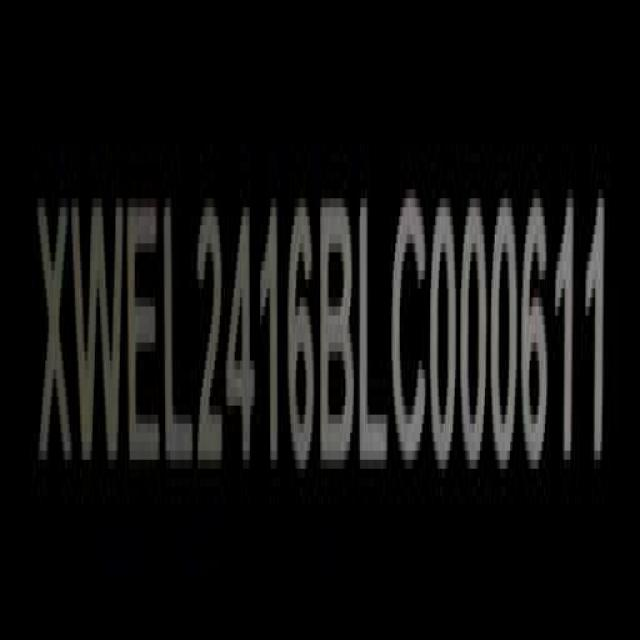0: (491, 196, 521, 475), (431, 194, 459, 475), (462, 192, 489, 473)
1: (586, 187, 610, 476), (260, 191, 282, 479), (557, 186, 577, 479)
2: (196, 196, 226, 482)
4: (225, 198, 255, 482)
6: (289, 196, 319, 478), (523, 190, 551, 476)
B: (321, 191, 355, 478)
C: (394, 196, 430, 477)
E: (128, 198, 162, 479)
L: (162, 197, 195, 479), (360, 194, 390, 478)
W: (75, 193, 126, 480)
X: (35, 193, 71, 481)
